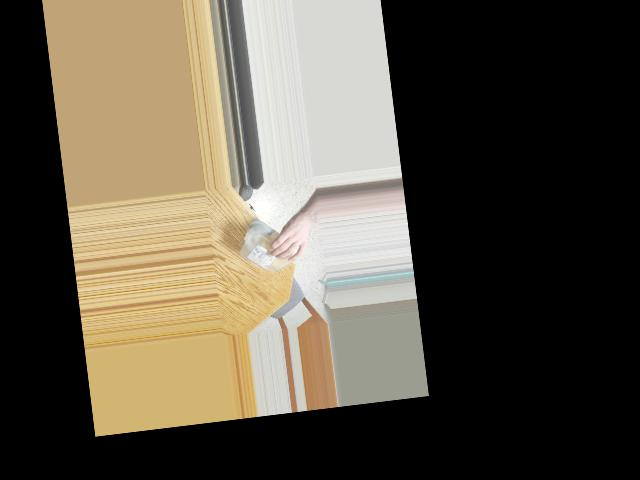cheese: (235, 217, 307, 277)
